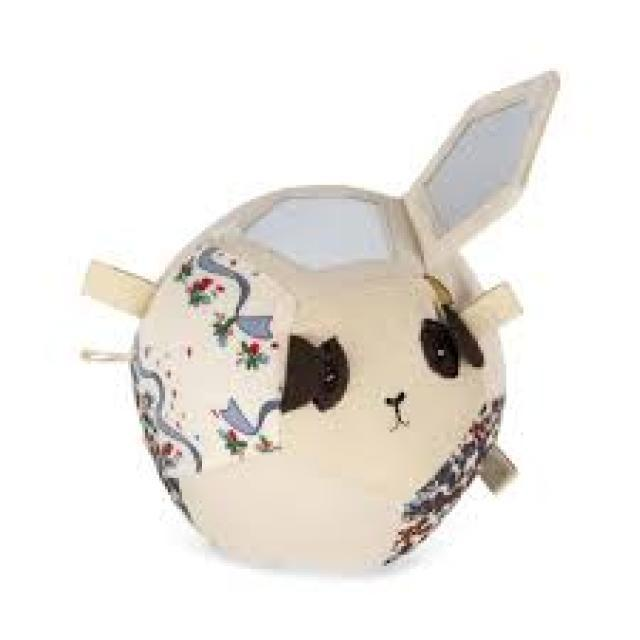soft-toy: (87, 74, 560, 570)
